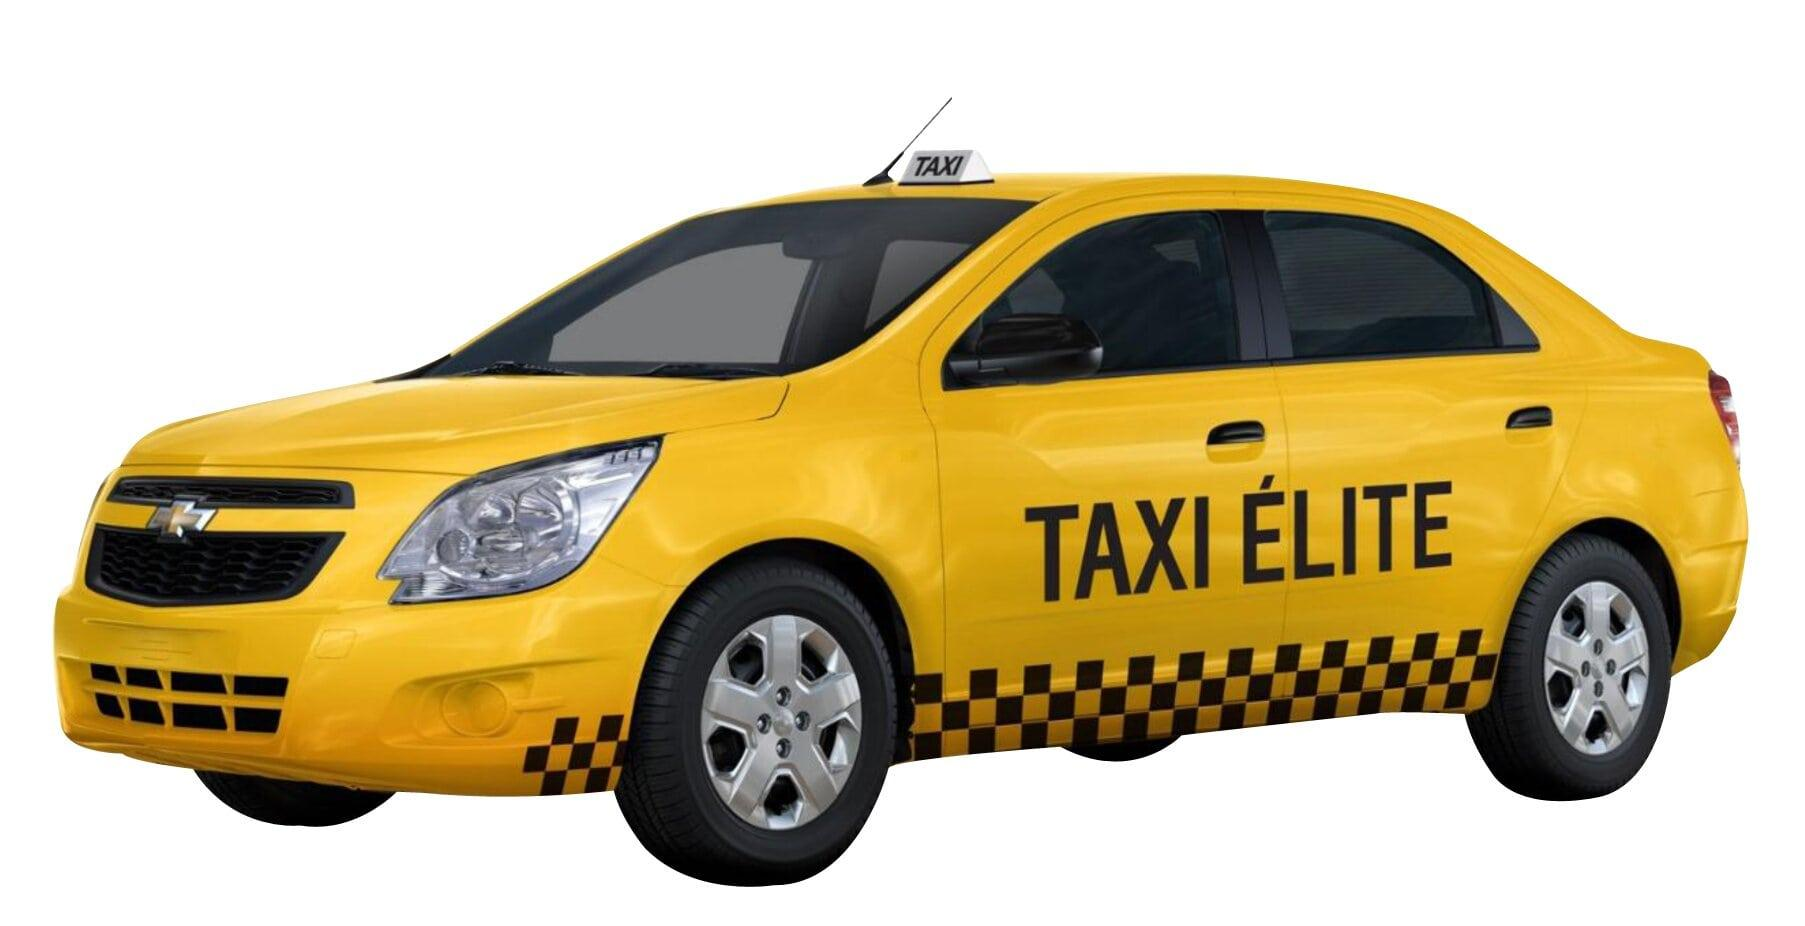taxi: (65, 99, 1786, 850)
